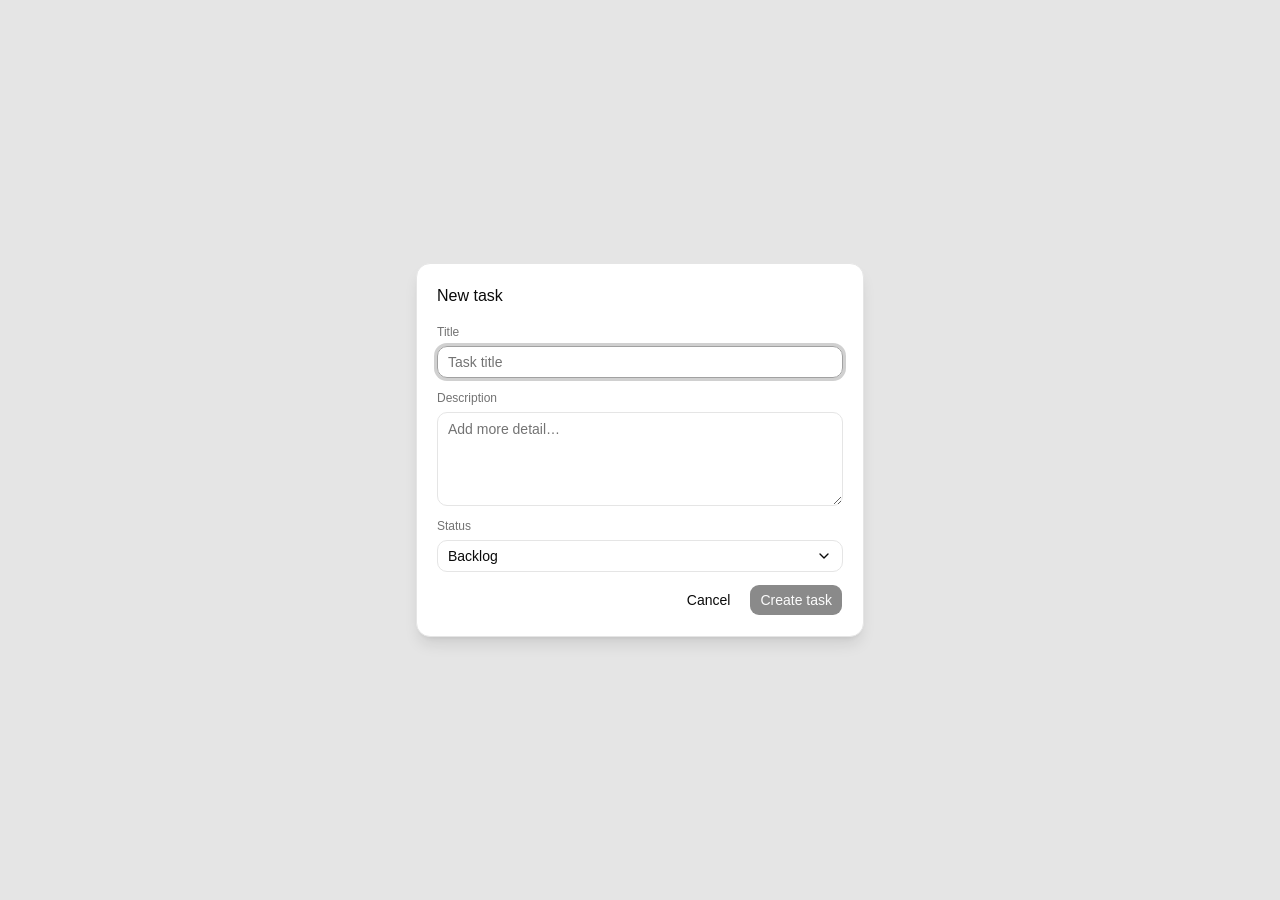
TaskDialog › shows the error when the submission fails
Step 1. Type "Write tests" into the field with placeholder "Task title" → (640, 362), box [437,346,843,378]
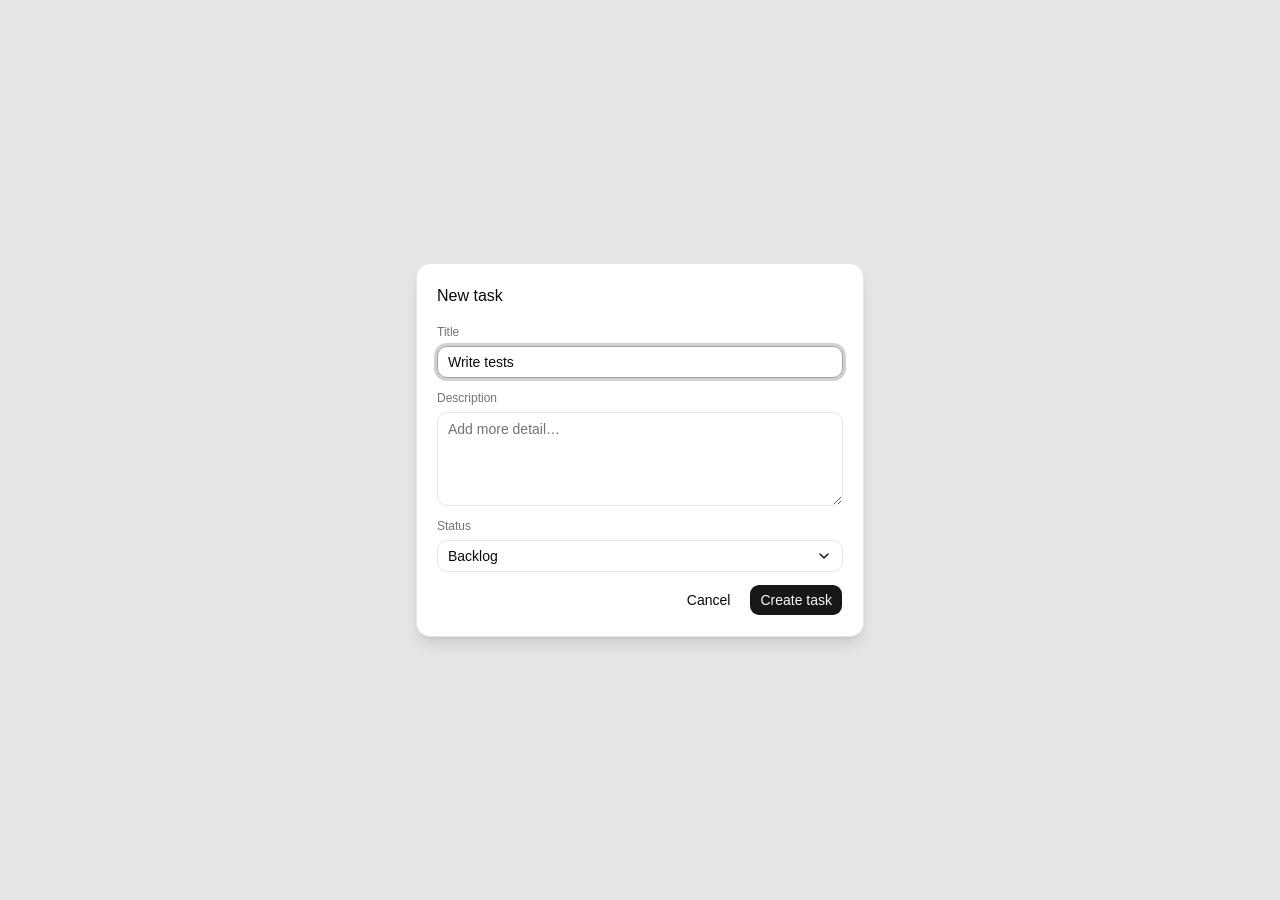
Step 2. Click the button "Create task" → click(796, 600), box [749,584,843,616]
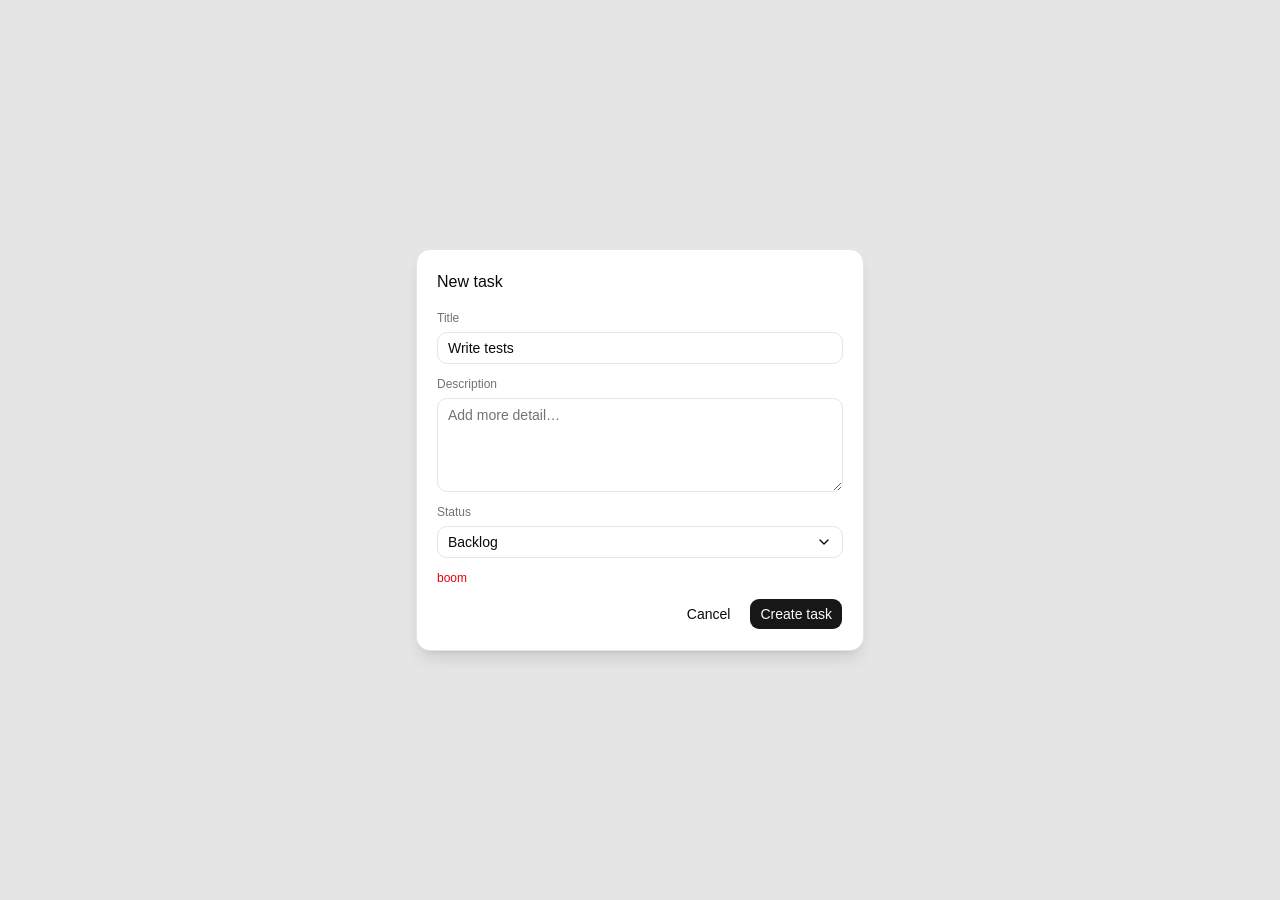
Expected: the text "boom" is shown, [437,571,467,585]
